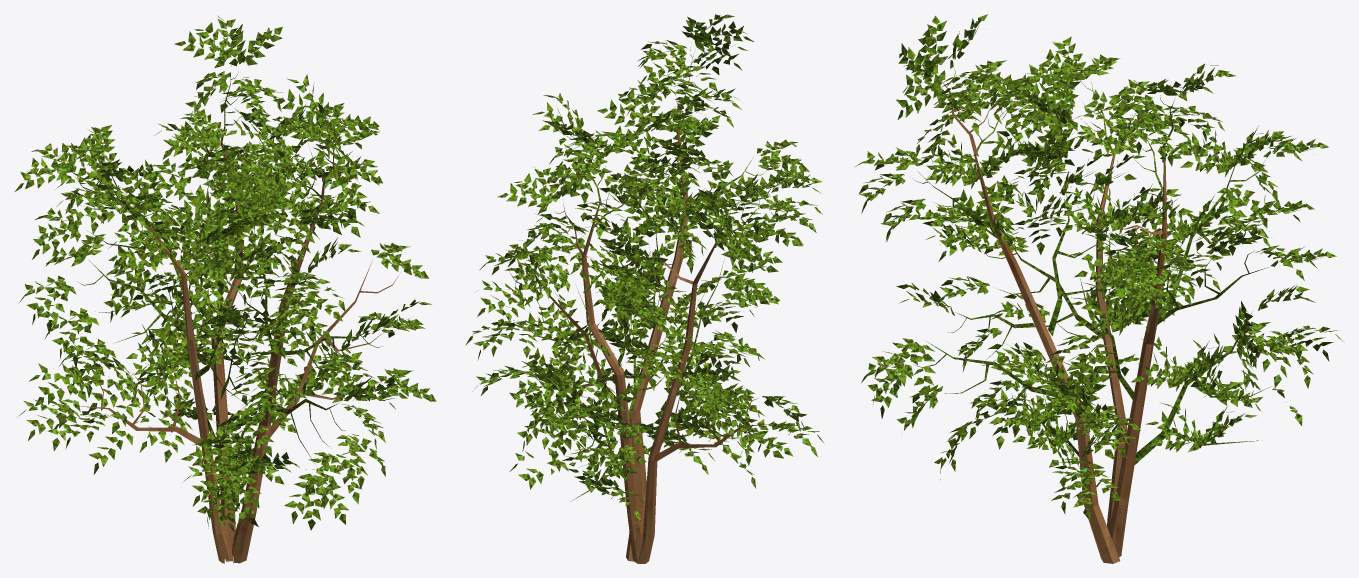
Rendered from tree.obj.
3 renders of one model, left to right at view 1: azimuth 30°, elevation 25°; view 2: azimuth 150°, elevation 25°; view 3: azimuth 270°, elevation 25°, orthographic. The views are drawn at different scales.
Visible parts, largest first — view 1: tree-COM-tree_SB-79963-Vegetation_Blur7, tree-COM-tree_SB-79963-Wood__Floor; view 2: tree-COM-tree_SB-79963-Vegetation_Blur7, tree-COM-tree_SB-79963-Wood__Floor; view 3: tree-COM-tree_SB-79963-Vegetation_Blur7, tree-COM-tree_SB-79963-Wood__Floor.
Boxes of the visible parts, left/top/right/bottom form: tree-COM-tree_SB-79963-Vegetation_Blur7: left=14, top=15, right=436, bottom=532; tree-COM-tree_SB-79963-Wood__Floor: left=80, top=124, right=398, bottom=563; tree-COM-tree_SB-79963-Vegetation_Blur7: left=465, top=14, right=824, bottom=520; tree-COM-tree_SB-79963-Wood__Floor: left=509, top=47, right=770, bottom=563; tree-COM-tree_SB-79963-Vegetation_Blur7: left=855, top=14, right=1344, bottom=520; tree-COM-tree_SB-79963-Wood__Floor: left=937, top=67, right=1167, bottom=563.
Bounding box in the file's own units: 72.55 × 95.02 × 77.84.
